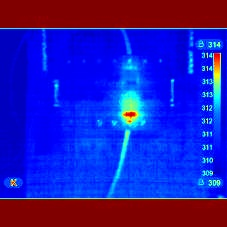High: (118, 94, 151, 132)
